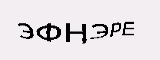Е: (120, 21, 137, 37)
Р: (108, 21, 121, 39)
Ф: (35, 22, 61, 42)
Э: (17, 21, 35, 40), (89, 23, 108, 40)
Ң: (64, 22, 88, 45)
